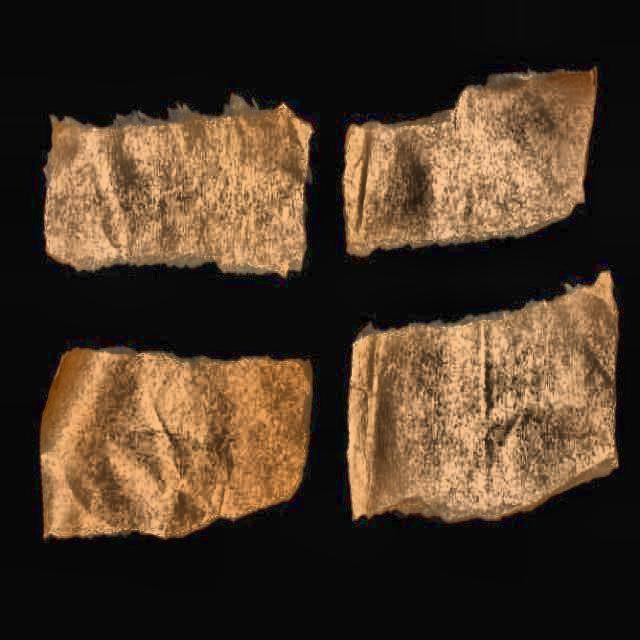cardboard: (346, 274, 618, 525), (40, 348, 313, 540), (342, 72, 596, 257), (44, 105, 313, 279)
